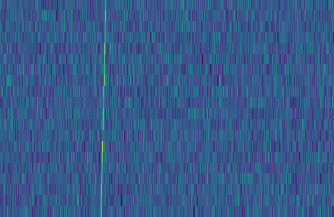signal: (95, 0, 109, 217)
